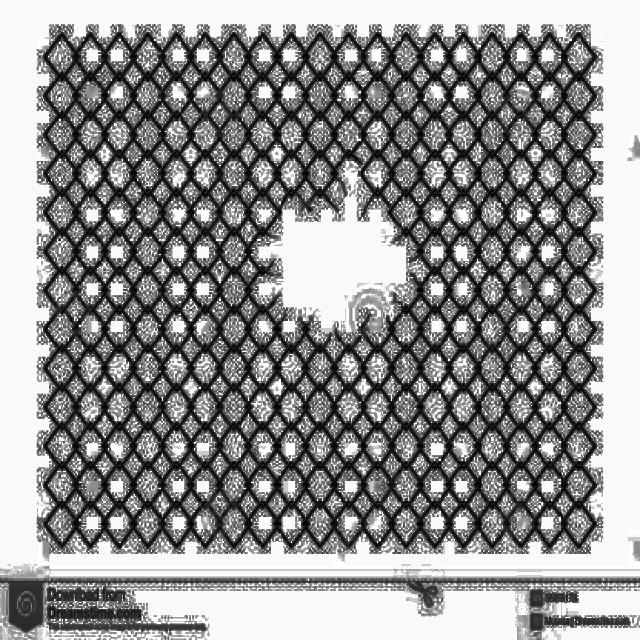anomaly-fence: (213, 131, 476, 362)
